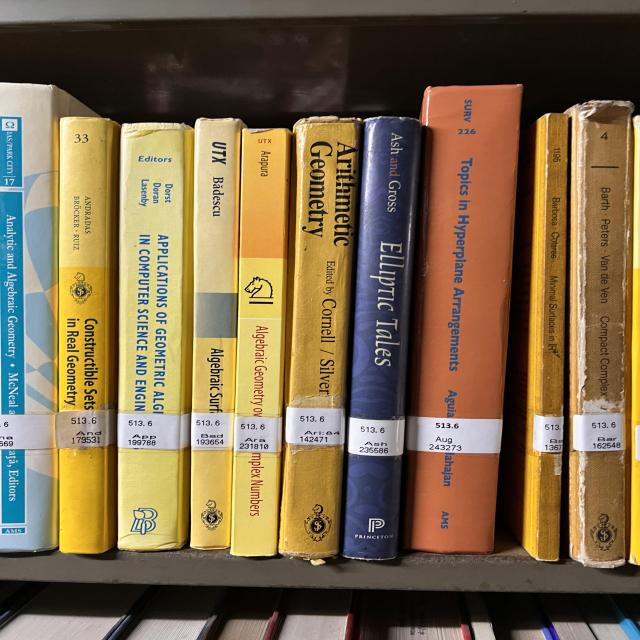Book: (403, 85, 522, 554), (0, 82, 97, 552), (278, 116, 362, 560), (343, 118, 422, 560), (118, 122, 192, 550), (567, 101, 633, 568), (502, 114, 568, 561), (57, 118, 120, 554), (232, 129, 292, 555), (190, 119, 245, 549)
Label: (407, 416, 503, 454), (118, 412, 190, 450), (55, 409, 117, 449), (285, 406, 345, 445), (348, 418, 405, 456), (572, 412, 623, 451), (0, 414, 55, 450), (233, 416, 282, 452), (190, 412, 233, 450), (532, 415, 563, 452)
